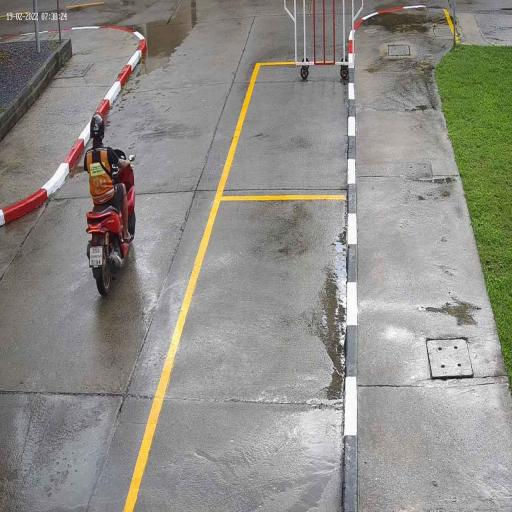motorcycle: (86, 151, 137, 296)
